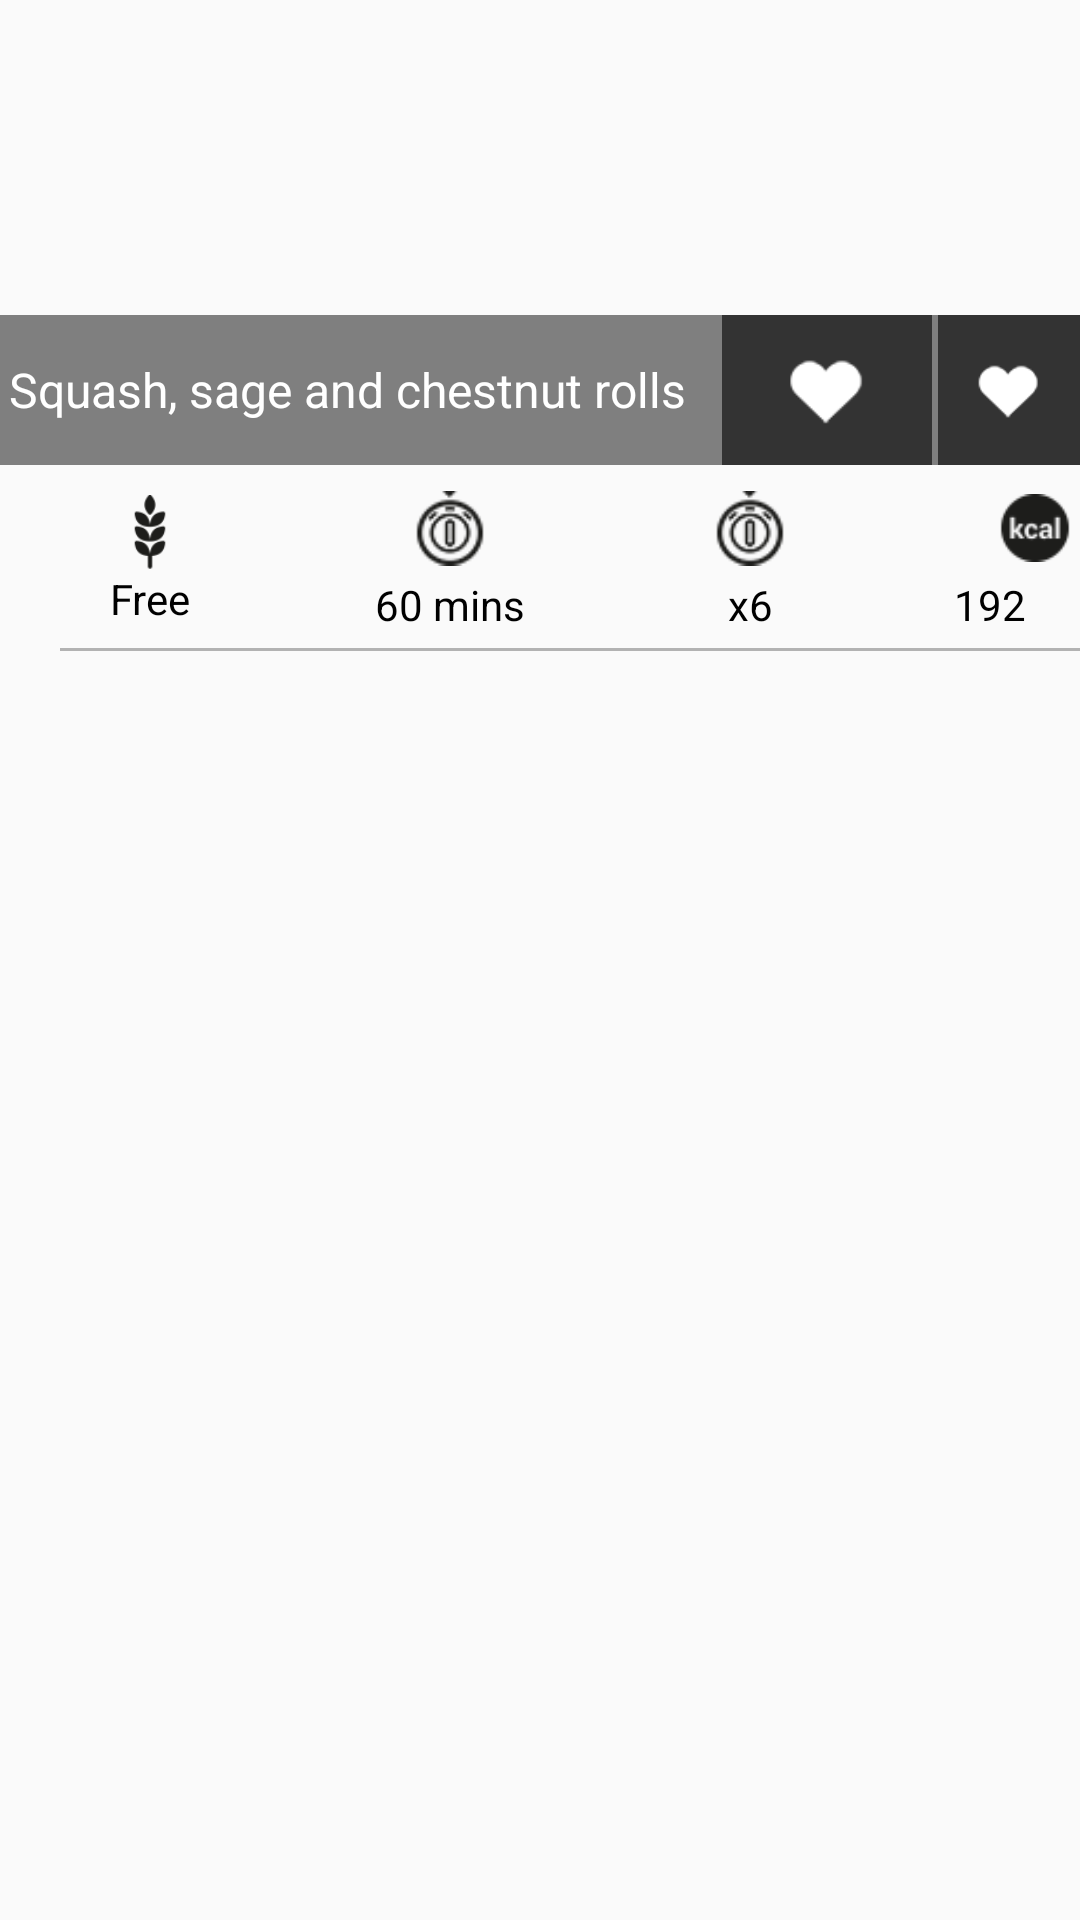

Point at icon controls on the screen. Image size 1080px×1920px, points as (x=x, y=y).
cook: (x=450, y=528), (x=750, y=528)
fav: (x=827, y=390), (x=1009, y=390)
gluten: (x=150, y=532)
